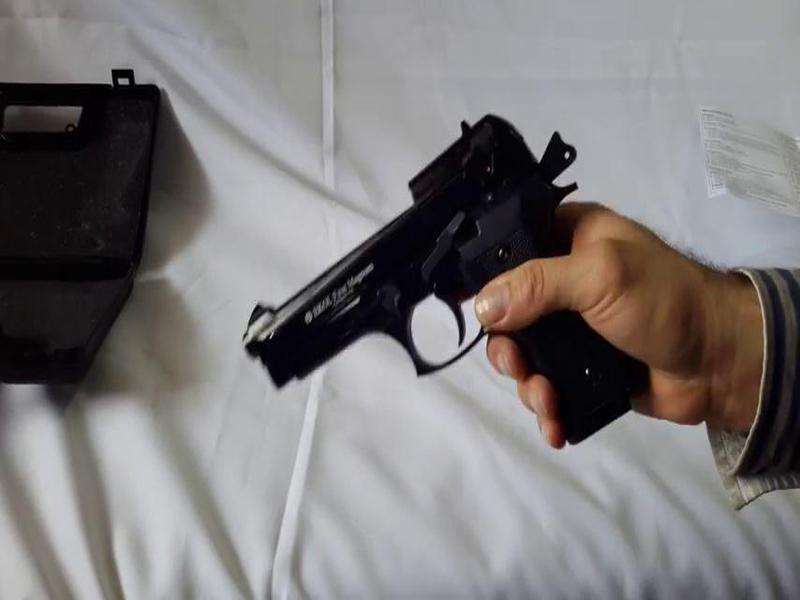Pistola: (212, 117, 632, 476)
